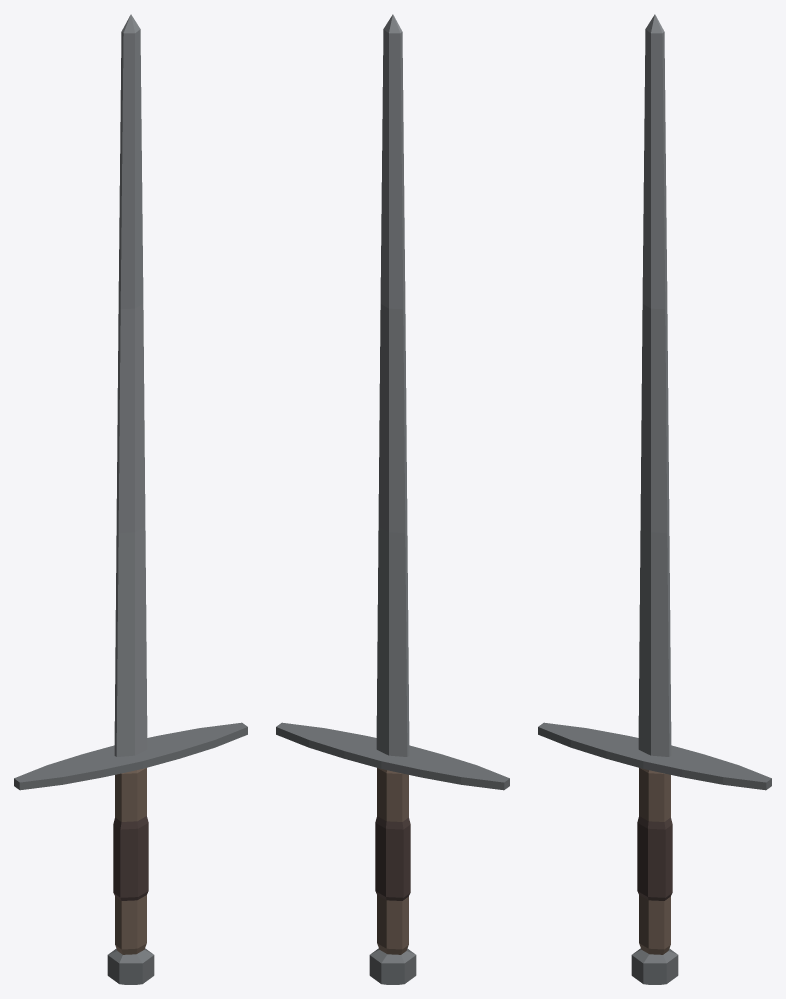
Rendered from LongSword.002.fbx.
3 views of the same model, side by side, from view 1: azimuth 30°, elevation 25°; view 2: azimuth 150°, elevation 25°; view 3: azimuth 330°, elevation 25° (orthographic).
Parts seen in each view (by area): view 1: LongSword.002; view 2: LongSword.002; view 3: LongSword.002.
Part boxes in pixels (x1,y1,x2,y2): LongSword.002: (14,14,247,984); LongSword.002: (276,14,509,984); LongSword.002: (538,14,771,984).
Bounding box in the file's own units: 35.34 × 143 × 6.28.
